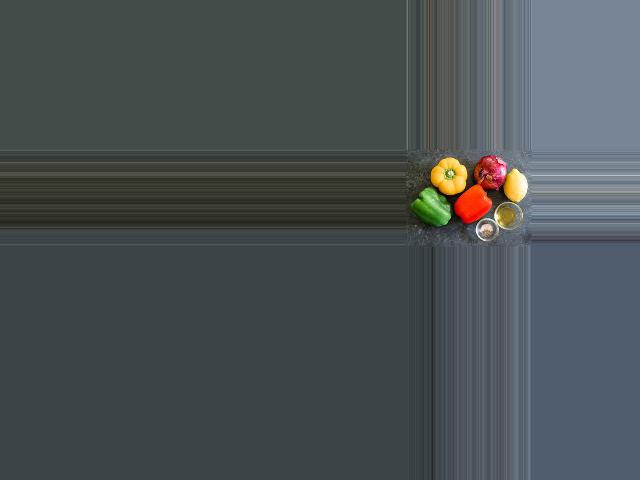bell_pepper: (454, 183, 491, 224)
